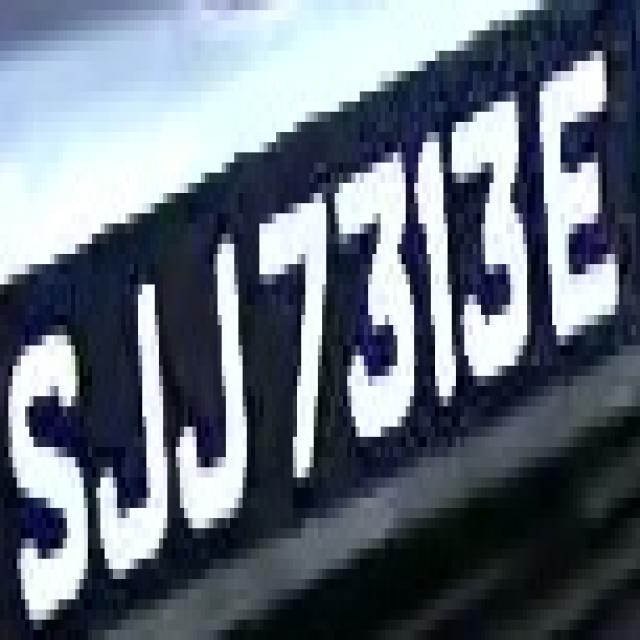1: (410, 92, 464, 457)
3: (444, 81, 536, 416), (326, 122, 414, 457)
7: (247, 163, 343, 518)
E: (531, 31, 619, 366)
J: (167, 203, 251, 549), (88, 254, 167, 579)
S: (4, 304, 92, 620)
